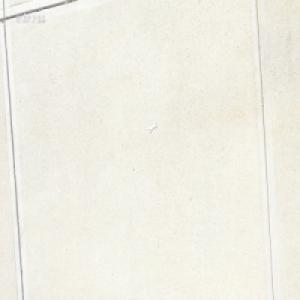Wrench: (148, 122, 156, 133)
